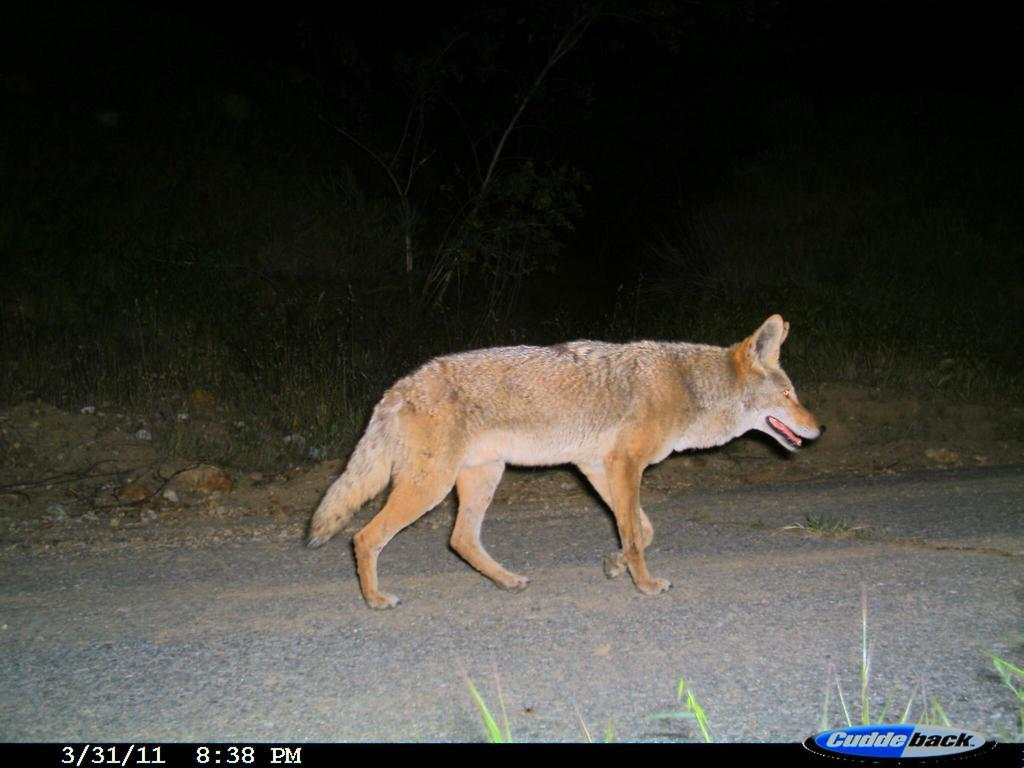coyote: (297, 310, 834, 620)
